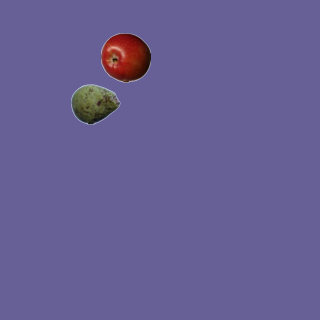Apple Braeburn: (100, 32, 150, 82)
Pear Stone: (70, 79, 120, 129)
